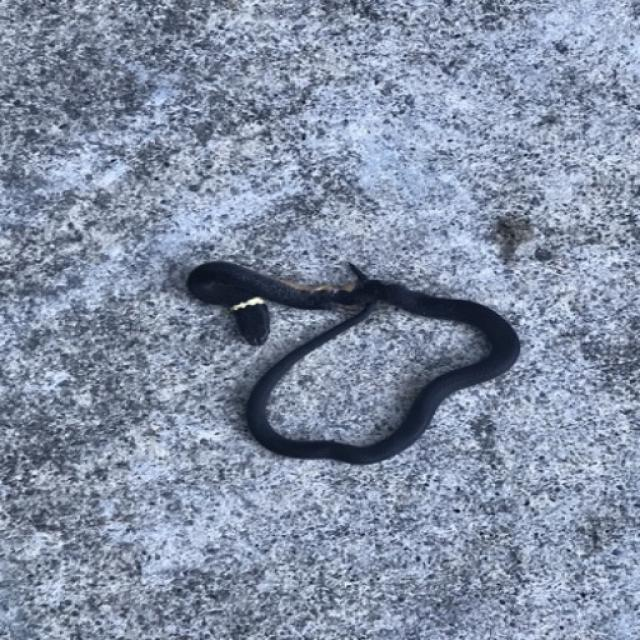snake: (178, 236, 530, 475)
